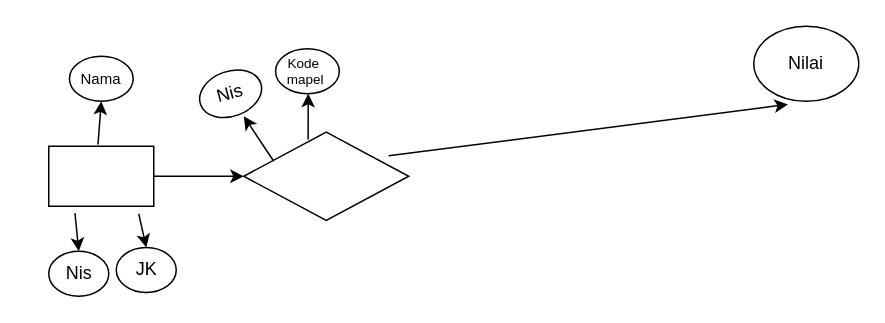
Some shapes in this 885 by 323 pixel diagram are drawn without their labels. Here are the shapes that lost their labels. From the top down, the box of each, then its label:
(47, 145, 154, 206): Siswa
(242, 131, 409, 220): mempelajari mapel
